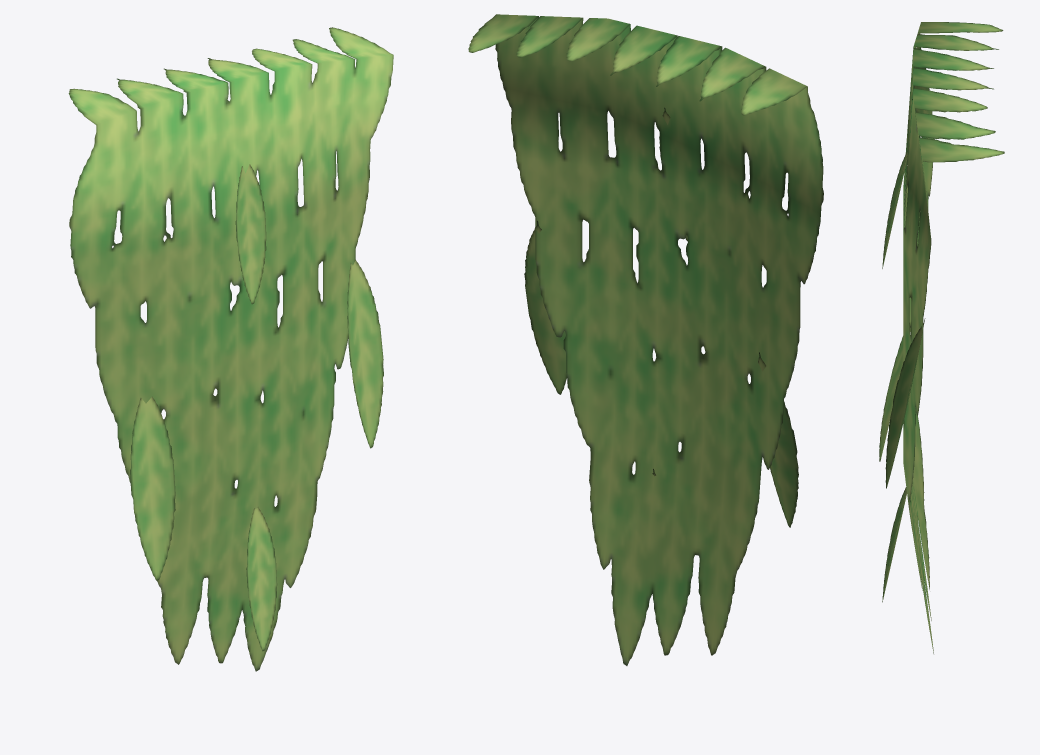
File: LeafSetA_19.fbx
3 renders of one model, left to right at view 1: azimuth 30°, elevation 25°; view 2: azimuth 150°, elevation 25°; view 3: azimuth 270°, elevation 25°, orthographic. The views are drawn at different scales.
Parts seen in each view (by area): view 1: LeafSetA_19; view 2: LeafSetA_19; view 3: LeafSetA_19.
Part boxes in pixels (x1=…): LeafSetA_19: x1=68, y1=27, x2=393, y2=671; LeafSetA_19: x1=468, y1=14, x2=823, y2=665; LeafSetA_19: x1=879, y1=22, x2=1004, y2=653.
Size of the model in its own units: 0.4242 by 0.7668 by 0.1923.
